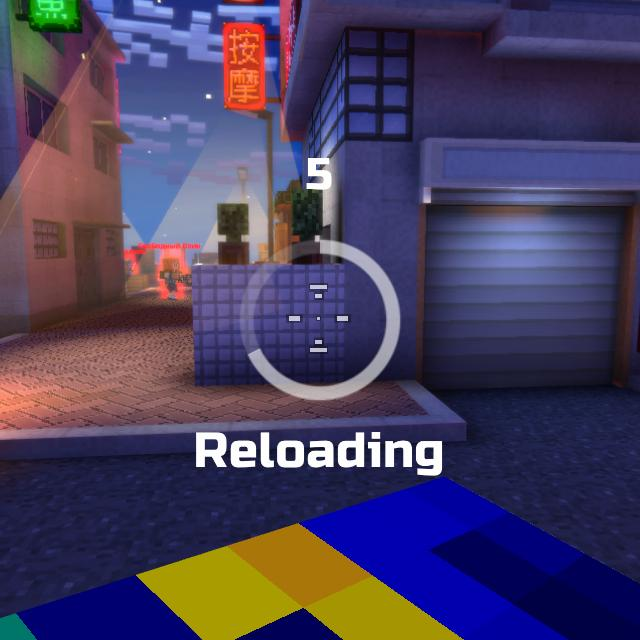Enemy: (161, 257, 190, 299), (124, 259, 137, 276)
